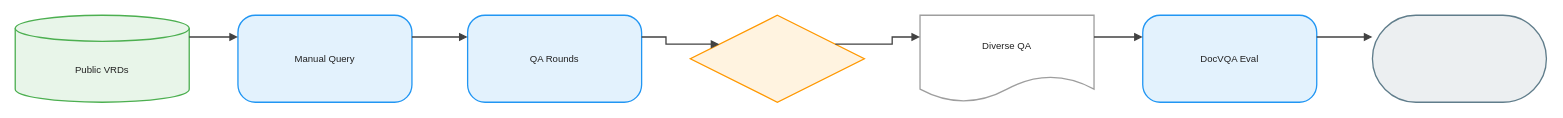
This 1563x118 diagram has some shape labels left out. The centre of each missing label's shape, as x and y in pixels:
ANLS: the point at 1459,58
ANLS Filter: the point at 777,58
